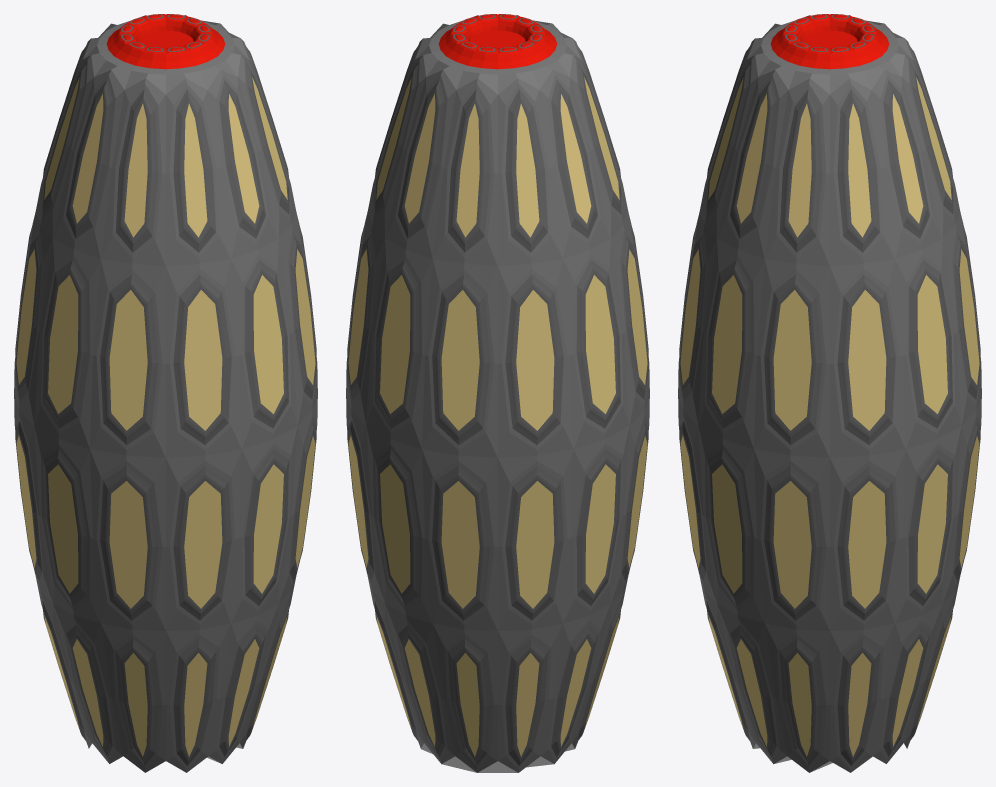
Rendered from В6-Пирофорная взрывчатка.fbx.
3 views of the same model, side by side, from view 1: azimuth 30°, elevation 25°; view 2: azimuth 150°, elevation 25°; view 3: azimuth 270°, elevation 25° (orthographic).
Parts seen in each view (by area): view 1: Cylinder; view 2: Cylinder; view 3: Cylinder.
Part boxes in pixels (x1=…): Cylinder: x1=14, y1=14, x2=317, y2=772; Cylinder: x1=346, y1=14, x2=649, y2=772; Cylinder: x1=678, y1=14, x2=981, y2=772.
Bounding box in the file's own units: 135 × 348 × 135.
